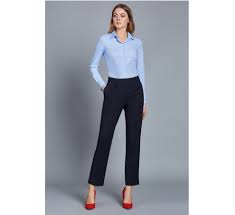F_shirt: (90, 34, 154, 94)
S_W_pants: (89, 74, 145, 188)
